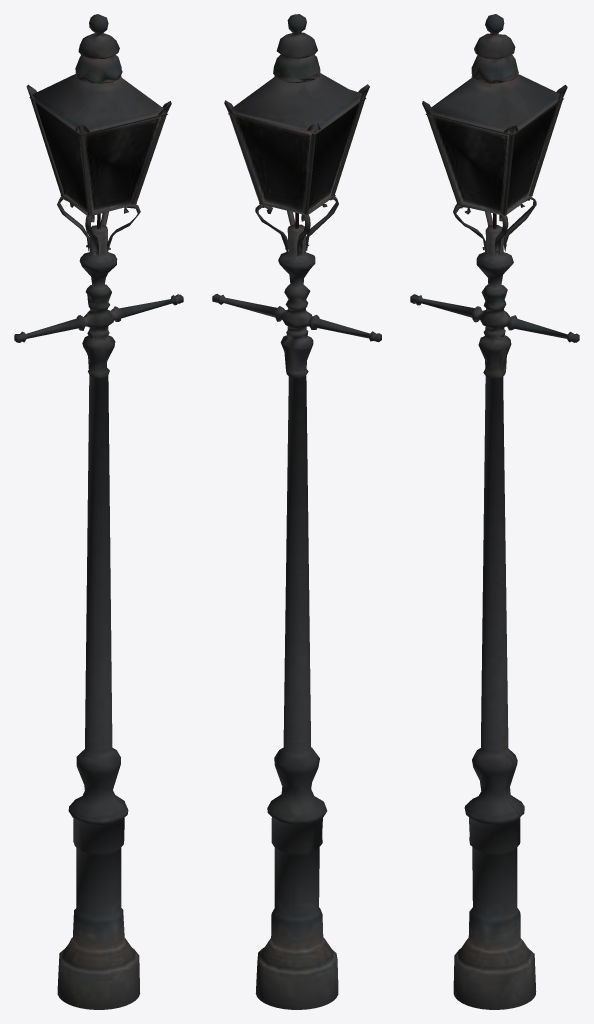
Rendered from streetlight-01.lite.76f36af4.glb.
The picture shows the model from 3 angles, left to right: view 1: azimuth 30°, elevation 25°; view 2: azimuth 150°, elevation 25°; view 3: azimuth 330°, elevation 25°; orthographic projection.
Visible parts, largest first — view 1: model; view 2: model; view 3: model.
Part boxes in pixels (bbox=[...]): model: bbox=[14, 14, 183, 1009]; model: bbox=[212, 14, 381, 1009]; model: bbox=[410, 14, 579, 1009].
Bounding box in the file's own units: 0.6964 × 3.87 × 0.3849.
Materials: 3 (3 with a texture image).
